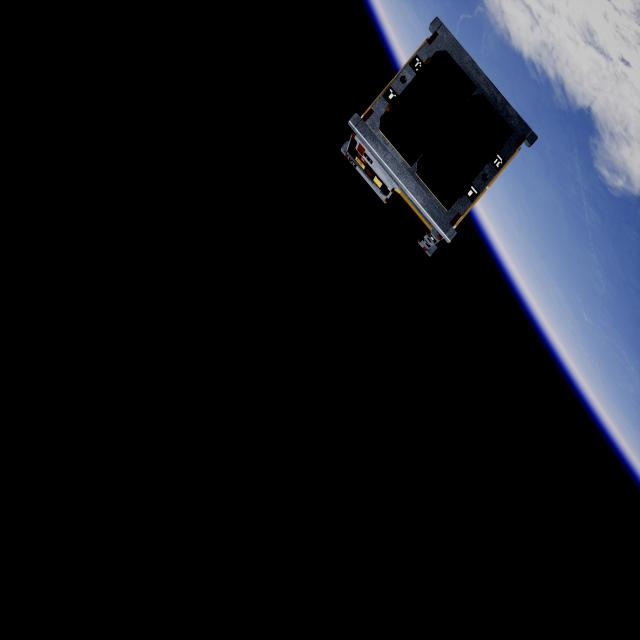medium_debris: (328, 16, 538, 254)
